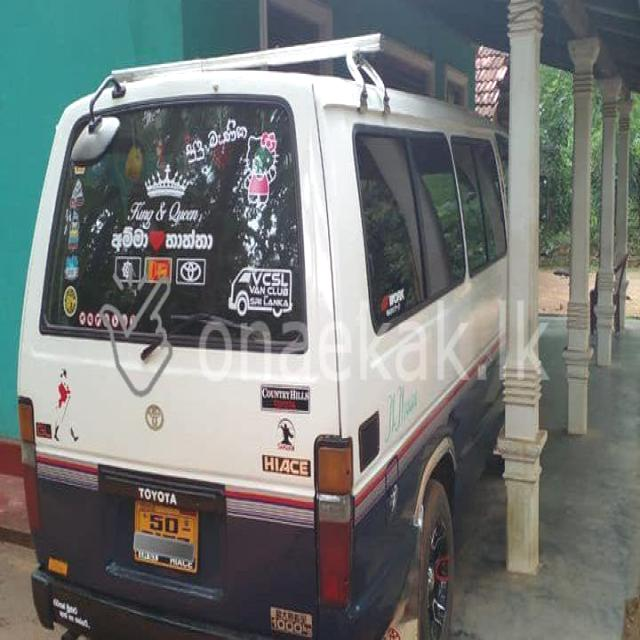Van: (18, 15, 506, 630)
